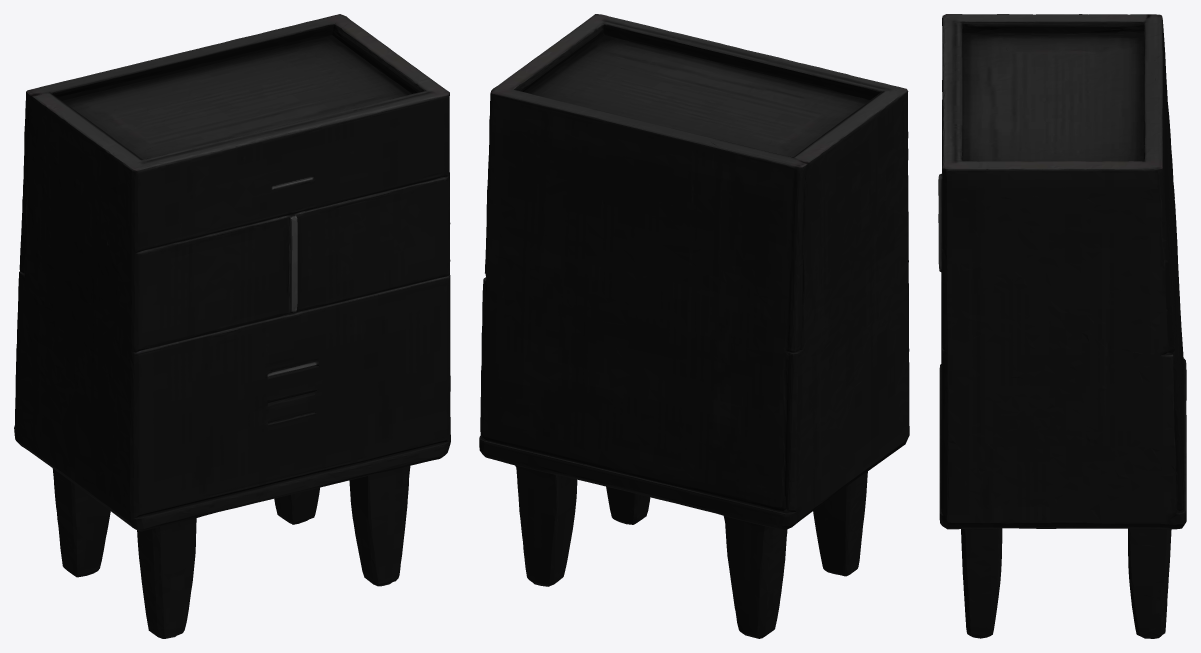
The model's file is ast_e85d108fbd22.glb.
3 views of the same model, side by side, from view 1: azimuth 30°, elevation 25°; view 2: azimuth 150°, elevation 25°; view 3: azimuth 270°, elevation 25° (orthographic).
Visible parts, largest first — view 1: geometry_0; view 2: geometry_0; view 3: geometry_0.
Part boxes in pixels (box(x1,y1,x2,y2)): geometry_0: box(14, 14, 450, 638); geometry_0: box(479, 14, 909, 638); geometry_0: box(938, 14, 1186, 638).
Size of the model in its own units: 0.6854 by 1 by 0.4582.
1 material, 1 textured.
